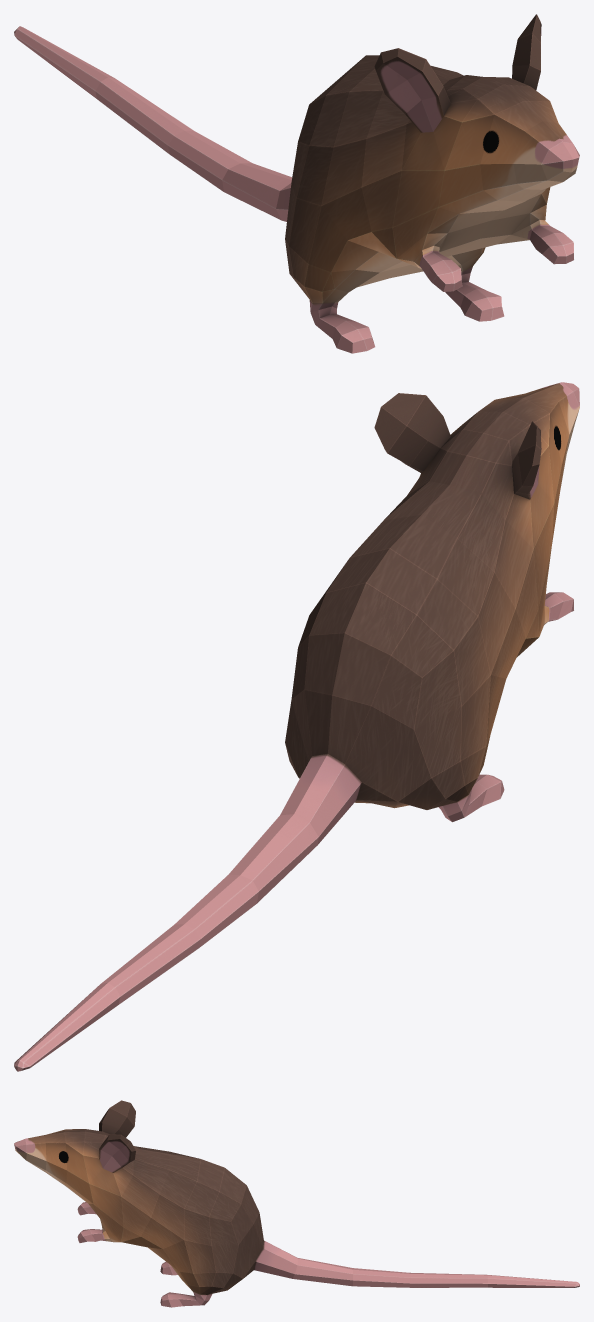
File: mouse_4KKE4D2FV1D.glb
The picture shows the model from 3 angles, top to bottom: view 1: azimuth 30°, elevation 25°; view 2: azimuth 150°, elevation 25°; view 3: azimuth 270°, elevation 25°; orthographic projection. The views are drawn at different scales.
Visible parts, largest first — view 1: CairoSpinyMouse_Mesh; view 2: CairoSpinyMouse_Mesh; view 3: CairoSpinyMouse_Mesh.
Boxes of the visible parts, x1,y1,x2,y2 form: CairoSpinyMouse_Mesh: [14, 14, 579, 353]; CairoSpinyMouse_Mesh: [14, 382, 579, 1071]; CairoSpinyMouse_Mesh: [14, 1100, 579, 1307].
Bounding box in the file's own units: 0.7584 × 1.37 × 4.1.
1 material, 1 textured.
